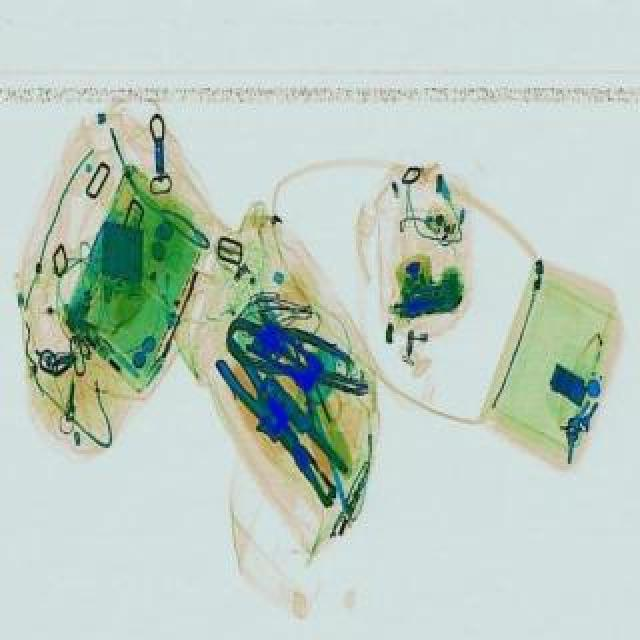wrench: (210, 340, 322, 474)
